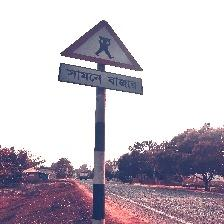Market-in-front: (59, 20, 145, 97)
